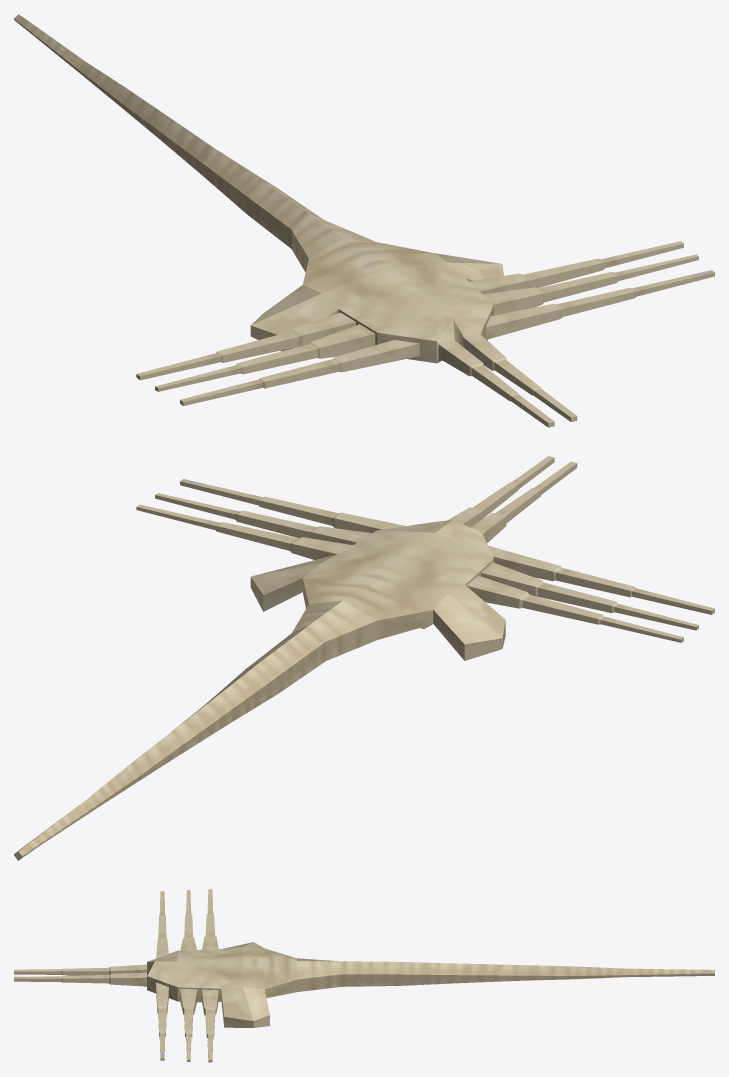
Rendered from SK_Facehugger.fbx.
3 renders of one model, top to bottom at view 1: azimuth 30°, elevation 25°; view 2: azimuth 150°, elevation 25°; view 3: azimuth 270°, elevation 25°, orthographic. The views are drawn at different scales.
Visible parts, largest first — view 1: Facehugger1; view 2: Facehugger1; view 3: Facehugger1.
Part boxes in pixels (bbox=[...]): Facehugger1: bbox=[14, 14, 714, 427]; Facehugger1: bbox=[14, 456, 714, 860]; Facehugger1: bbox=[14, 889, 714, 1062].
Size of the model in its own units: 26.38 by 2.38 by 45.68.
Materials: 1 (1 with a texture image).
